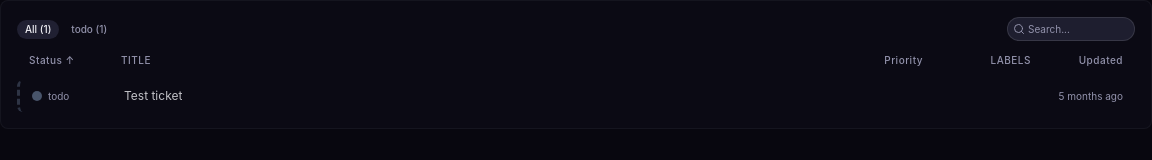
it: TicketListView › sorting › shows sort indicator on active column
Priority header click
Click the button "Priority" at (895, 60), box [867,53,923,68]
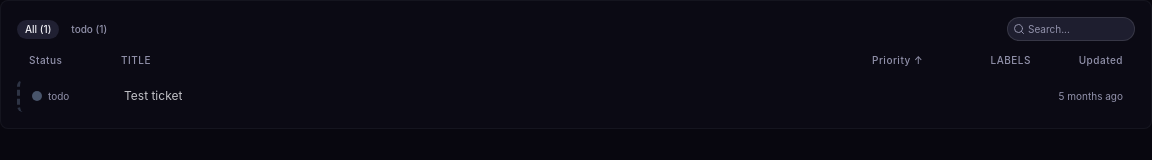
Now the button "Priority ↑" is shown, box [867,53,923,68]
